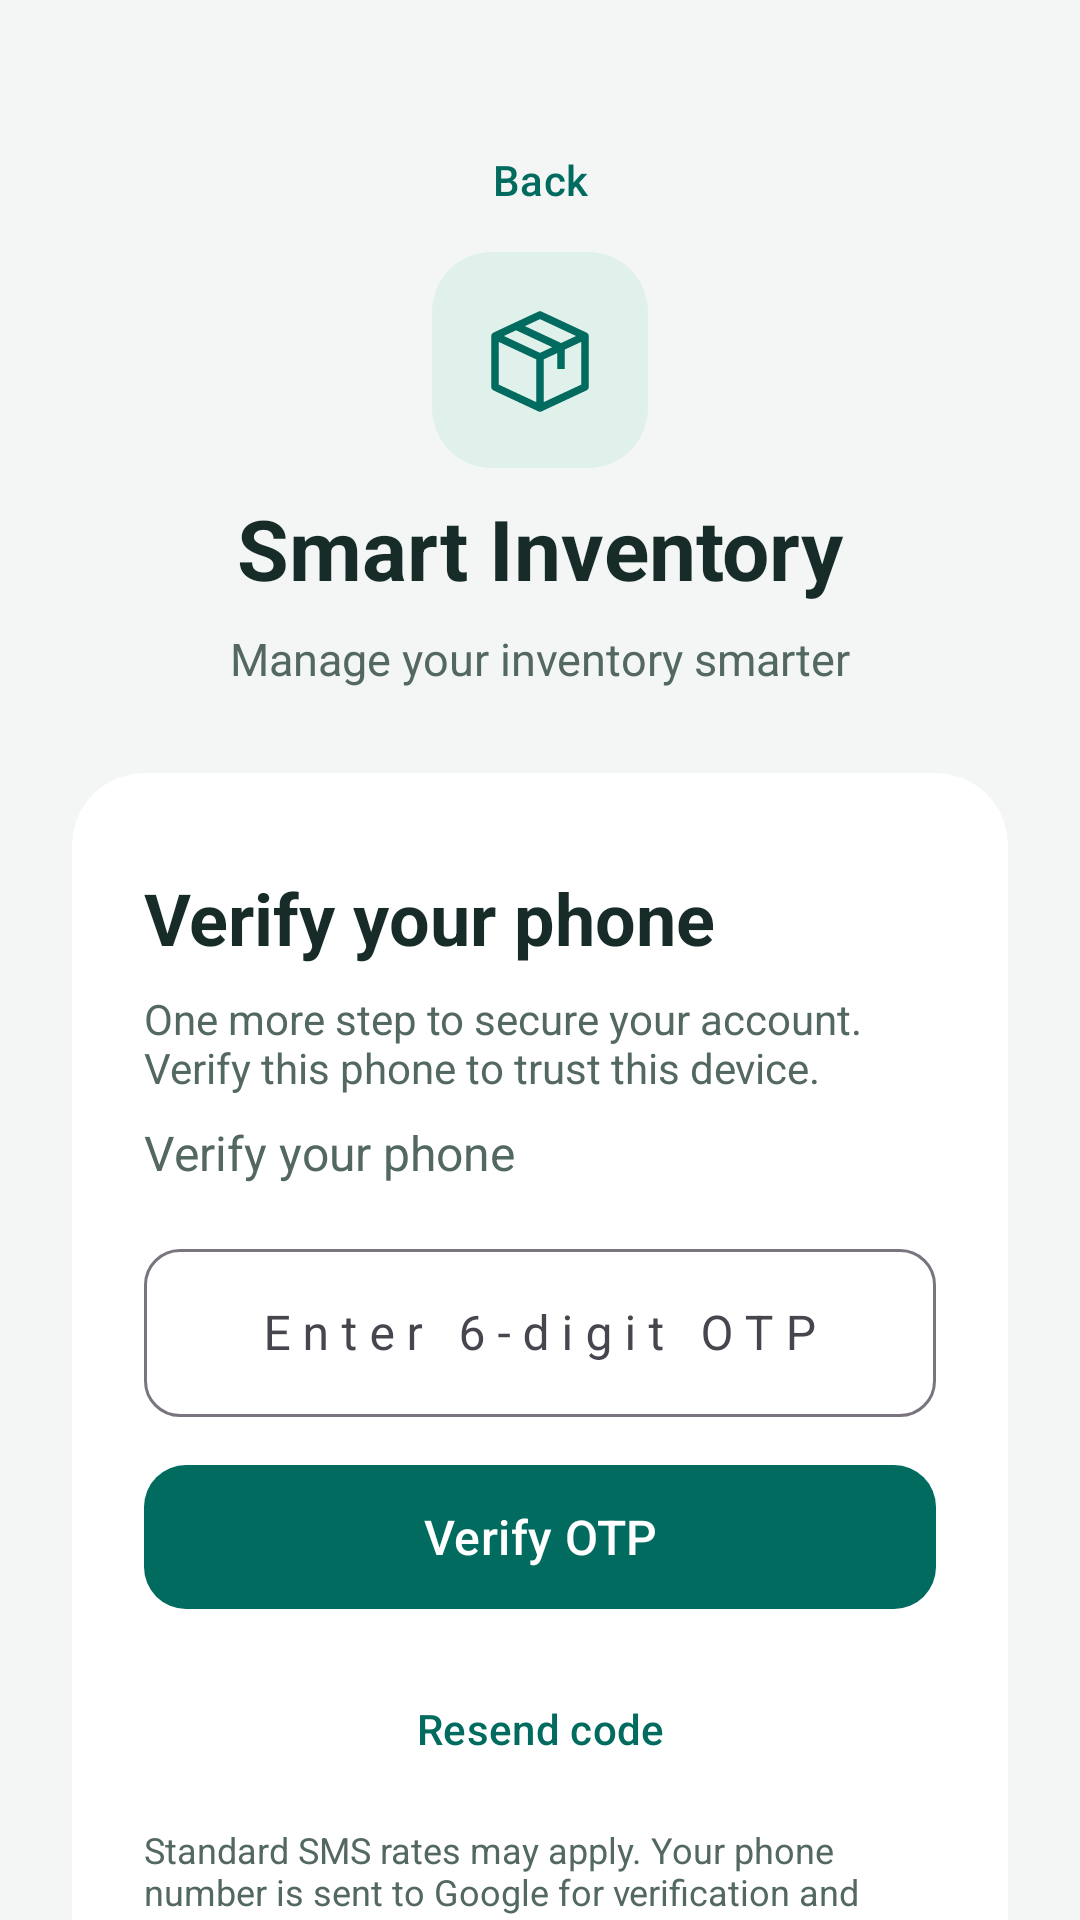

Named icons in this screenshot (1080 × 1920) and their bounding boxes, box=[x1, y1, x2, y2]:
inventory mark: box=[432, 252, 648, 468]
